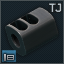P226 9x19 TJs Custom compensator: (0, 0, 64, 64)
